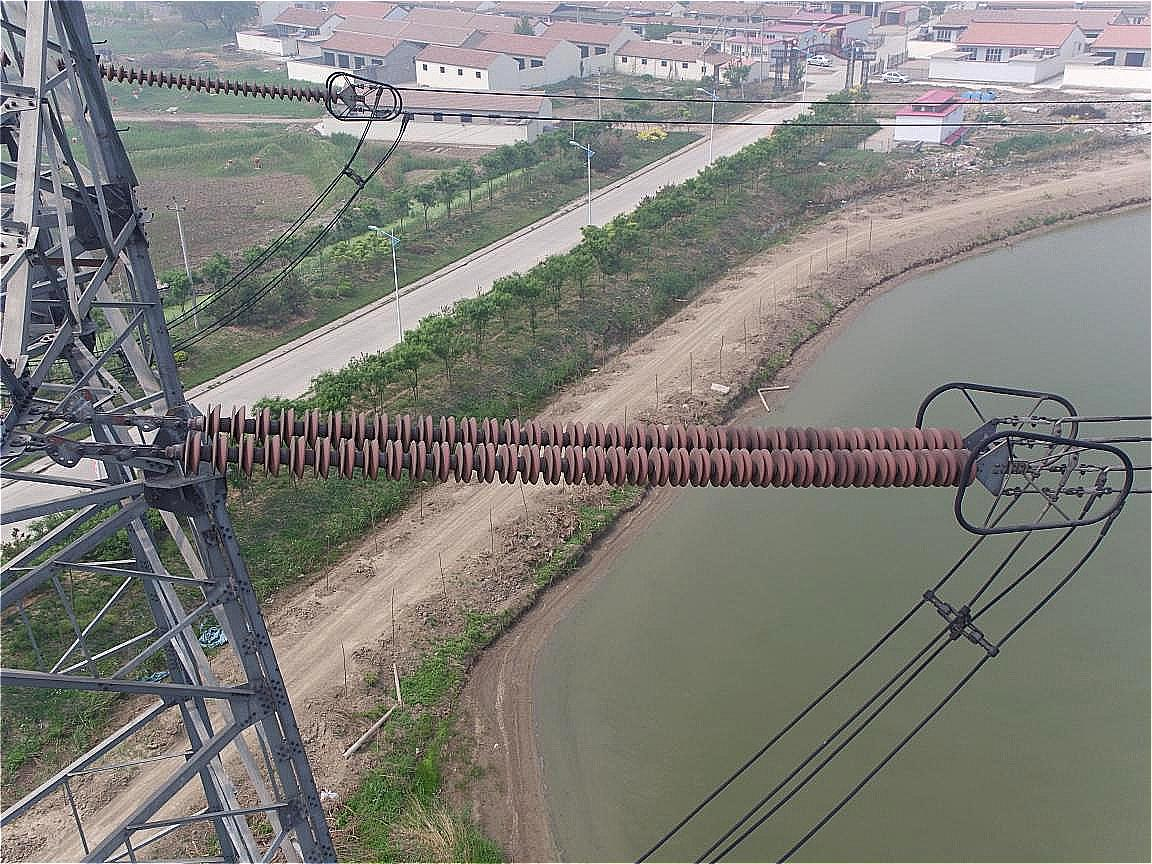insultor1: (98, 64, 339, 104)
insultor2: (180, 403, 977, 487)
